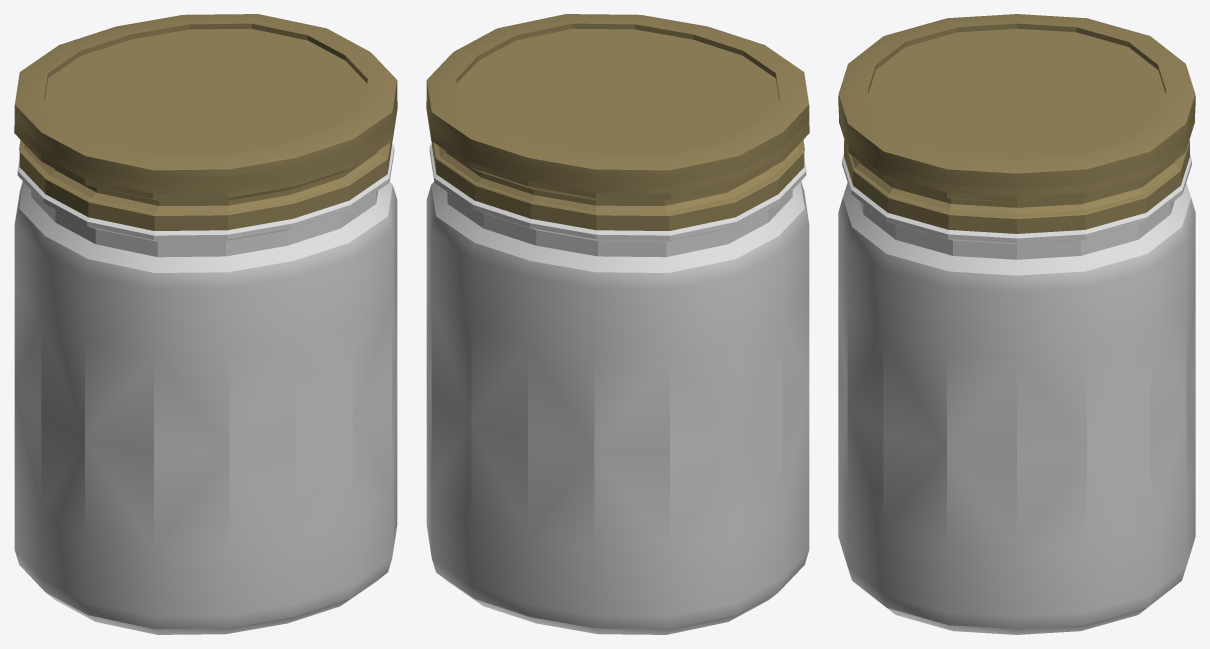
Rendered from jar.fbx.
3 views of the same model, side by side, from view 1: azimuth 30°, elevation 25°; view 2: azimuth 150°, elevation 25°; view 3: azimuth 270°, elevation 25° (orthographic).
Parts seen in each view (by area): view 1: pCube1, pCube2; view 2: pCube1, pCube2; view 3: pCube1, pCube2.
Boxes of the visible parts, x1,y1,x2,y2 form: pCube1: [14, 144, 397, 634]; pCube2: [14, 14, 397, 230]; pCube1: [426, 144, 809, 634]; pCube2: [426, 14, 809, 230]; pCube1: [838, 154, 1195, 634]; pCube2: [838, 14, 1195, 233].
Bounding box in the file's own units: 0.3189 × 0.4414 × 0.3013.
